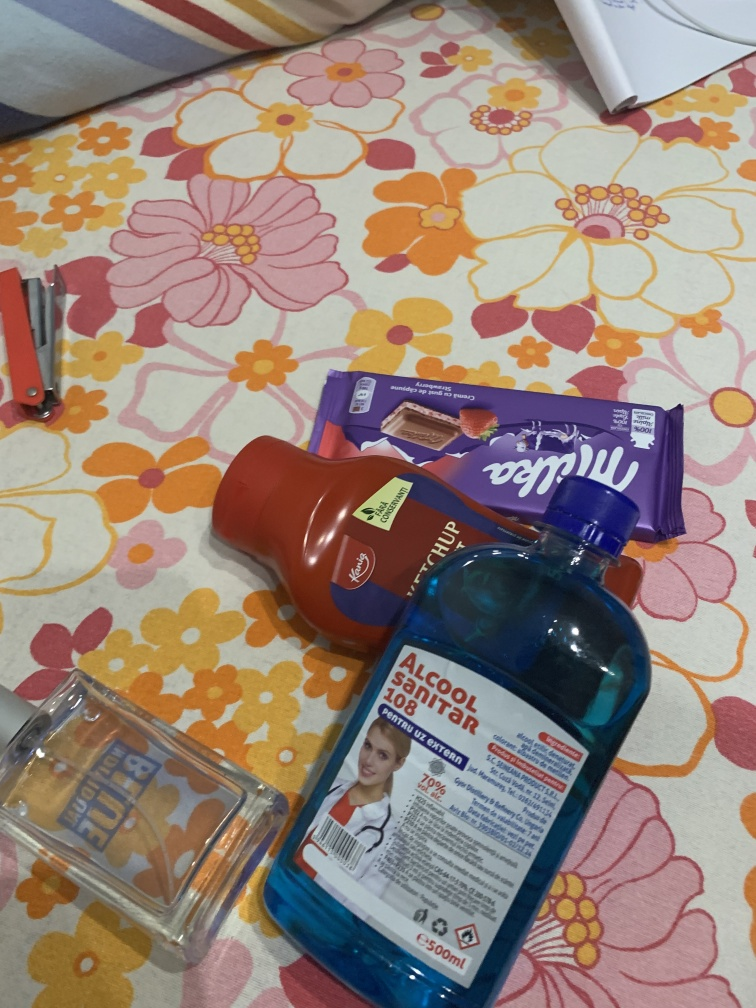ketchup: (181, 432, 555, 668)
milka: (306, 362, 684, 545)
